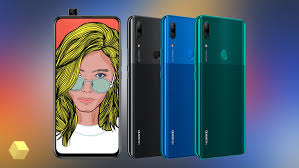huawei: (193, 12, 249, 159)
